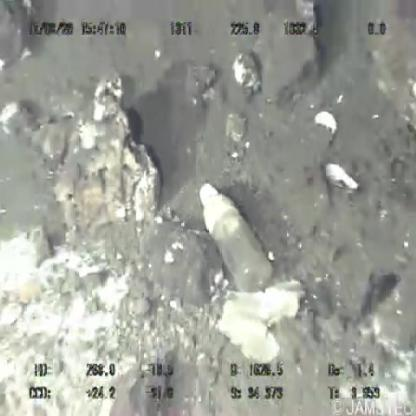Rác: (198, 178, 276, 304)
